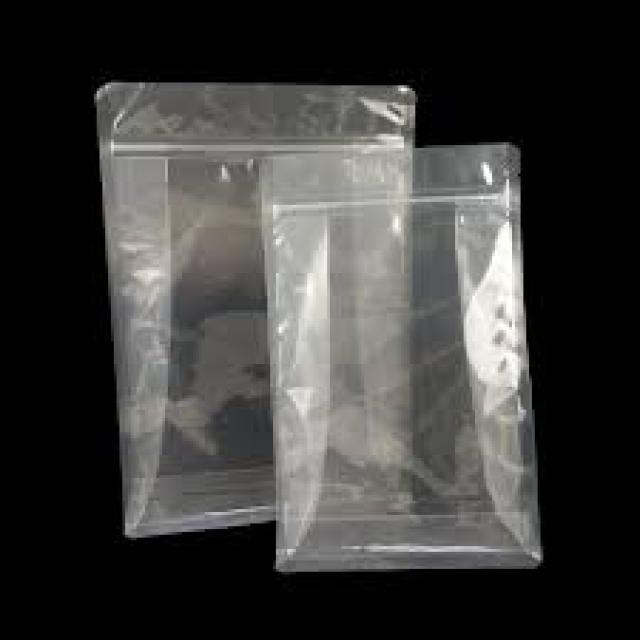Single-layer Plastic: (96, 66, 448, 537), (260, 144, 543, 577)
